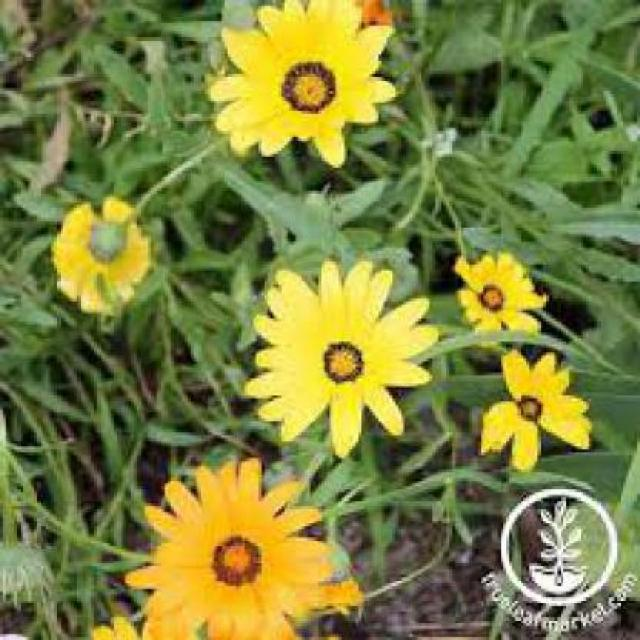Flower: (245, 259, 439, 459), (126, 458, 337, 638), (208, 3, 399, 168), (475, 350, 592, 468), (51, 196, 151, 316), (453, 250, 550, 347), (276, 57, 336, 111), (213, 537, 262, 586), (319, 339, 364, 379), (479, 282, 503, 311), (515, 393, 540, 418)
